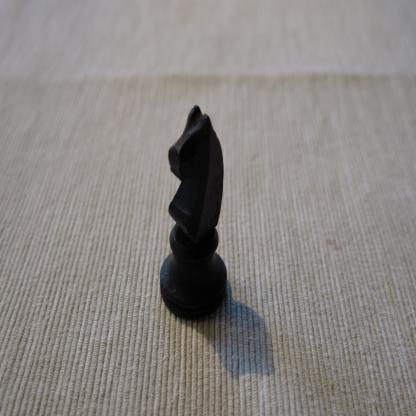black-knight: (159, 103, 228, 322)
